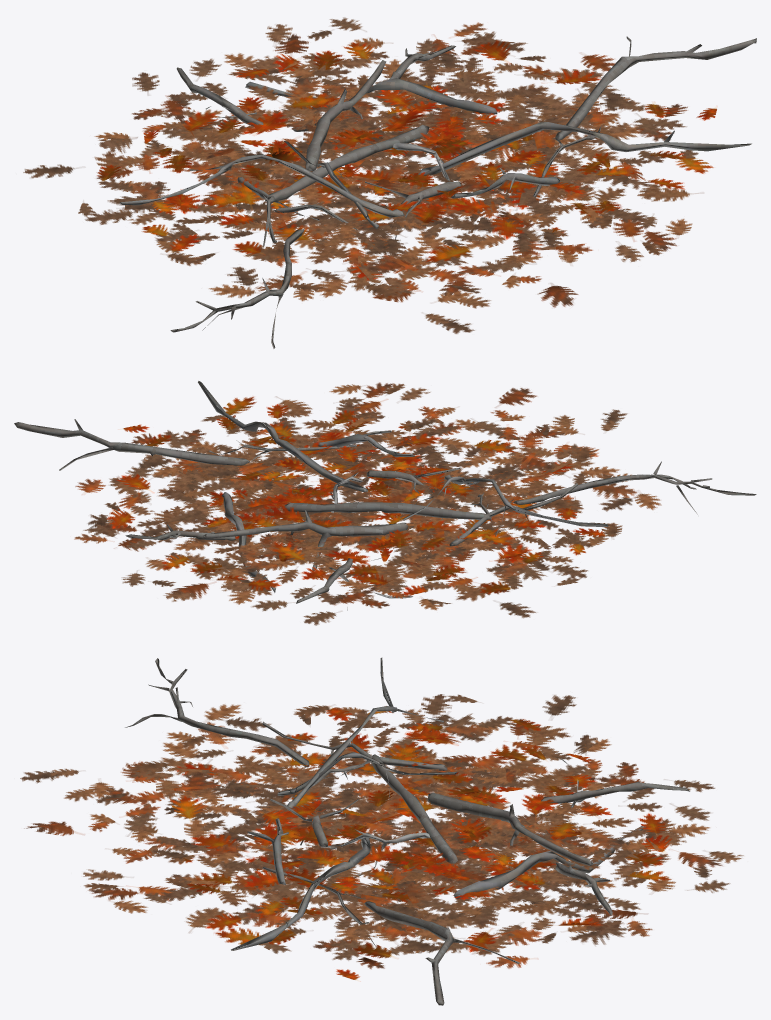
Rendered from realistic_hd_red_oak_leaf_litter_2036.glb.
3 renders of one model, top to bottom at view 1: azimuth 30°, elevation 25°; view 2: azimuth 150°, elevation 25°; view 3: azimuth 270°, elevation 25°, orthographic. The views are drawn at different scales.
Parts seen in each view (by area): view 1: Quercus_rubra_leaf_litter_HD_V2; view 2: Quercus_rubra_leaf_litter_HD_V2; view 3: Quercus_rubra_leaf_litter_HD_V2.
Boxes of the visible parts, x1,y1,x2,y2 form: Quercus_rubra_leaf_litter_HD_V2: (23, 17, 756, 348); Quercus_rubra_leaf_litter_HD_V2: (14, 381, 756, 625); Quercus_rubra_leaf_litter_HD_V2: (20, 657, 743, 1005).
Size of the model in its own units: 3.64 by 0.4344 by 3.22.
8 materials, 8 textured.
